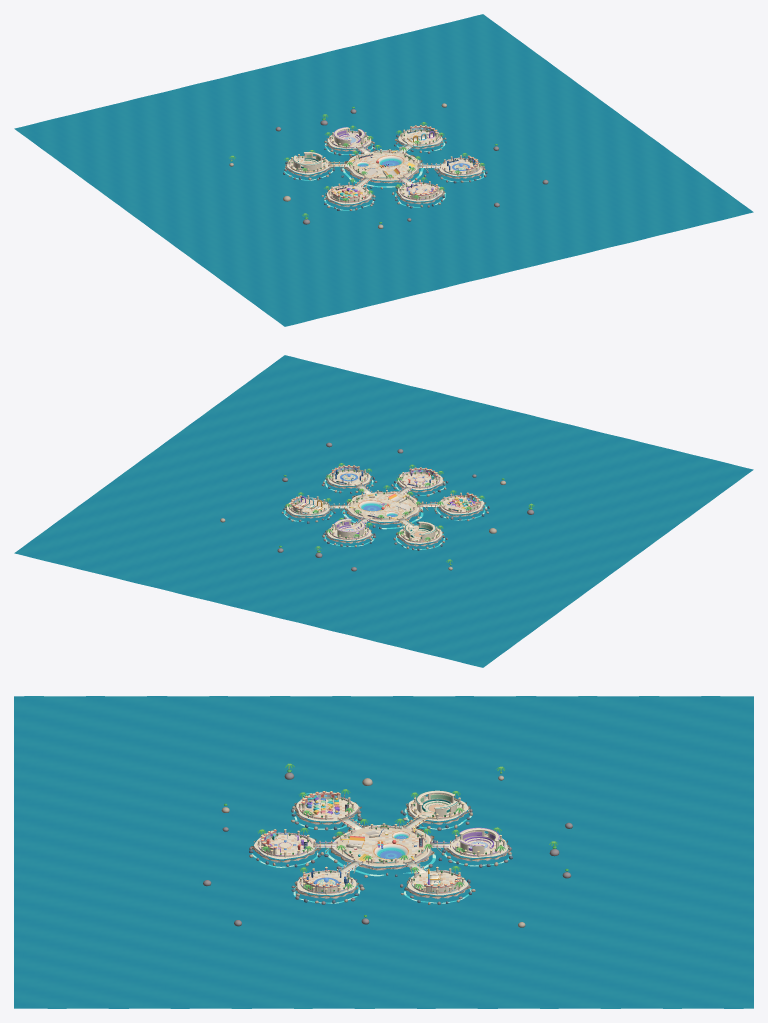
Rendered from duderworld-archipelago-v0-4-1.glb.
3 renders of one model, top to bottom at view 1: azimuth 30°, elevation 25°; view 2: azimuth 150°, elevation 25°; view 3: azimuth 270°, elevation 25°, orthographic. The views are drawn at different scales.
Parts seen in each view (by area): view 1: ocean / solid, skate / solid, arcade / solid, physics / solid, friends / solid, voice / solid, sessions / solid, network / solid, bridges / solid; view 2: ocean / solid, skate / solid, arcade / solid, physics / solid, voice / solid, friends / solid, sessions / solid, network / solid, bridges / solid; view 3: ocean / solid, skate / solid, physics / solid, voice / solid, friends / solid, arcade / solid, sessions / solid, network / solid, bridges / solid, offshore-rocks / solid.
Boxes of the visible parts, x1=… form: ocean / solid: x1=14, y1=14, x2=753, y2=326; skate / solid: x1=341, y1=145, x2=428, y2=189; arcade / solid: x1=392, y1=177, x2=444, y2=208; physics / solid: x1=321, y1=179, x2=375, y2=210; friends / solid: x1=283, y1=150, x2=334, y2=180; voice / solid: x1=324, y1=125, x2=375, y2=155; sessions / solid: x1=394, y1=122, x2=446, y2=153; network / solid: x1=435, y1=153, x2=487, y2=183; bridges / solid: x1=328, y1=142, x2=441, y2=187; ocean / solid: x1=14, y1=355, x2=753, y2=667; skate / solid: x1=342, y1=485, x2=427, y2=529; arcade / solid: x1=391, y1=464, x2=448, y2=496; physics / solid: x1=434, y1=490, x2=489, y2=521; voice / solid: x1=322, y1=518, x2=375, y2=547; friends / solid: x1=393, y1=521, x2=447, y2=550; sessions / solid: x1=281, y1=492, x2=335, y2=523; network / solid: x1=321, y1=463, x2=377, y2=493; bridges / solid: x1=328, y1=482, x2=440, y2=527; ocean / solid: x1=14, y1=696, x2=753, y2=1008; skate / solid: x1=324, y1=818, x2=444, y2=877; physics / solid: x1=291, y1=789, x2=362, y2=830; voice / solid: x1=442, y1=827, x2=512, y2=867; friends / solid: x1=400, y1=790, x2=472, y2=830; arcade / solid: x1=249, y1=827, x2=323, y2=867; sessions / solid: x1=400, y1=866, x2=475, y2=904; network / solid: x1=291, y1=867, x2=364, y2=904; bridges / solid: x1=313, y1=815, x2=451, y2=874; offshore-rocks / solid: x1=203, y1=763, x2=572, y2=927.
Size of the model in its own units: 360 by 9.98 by 360.
